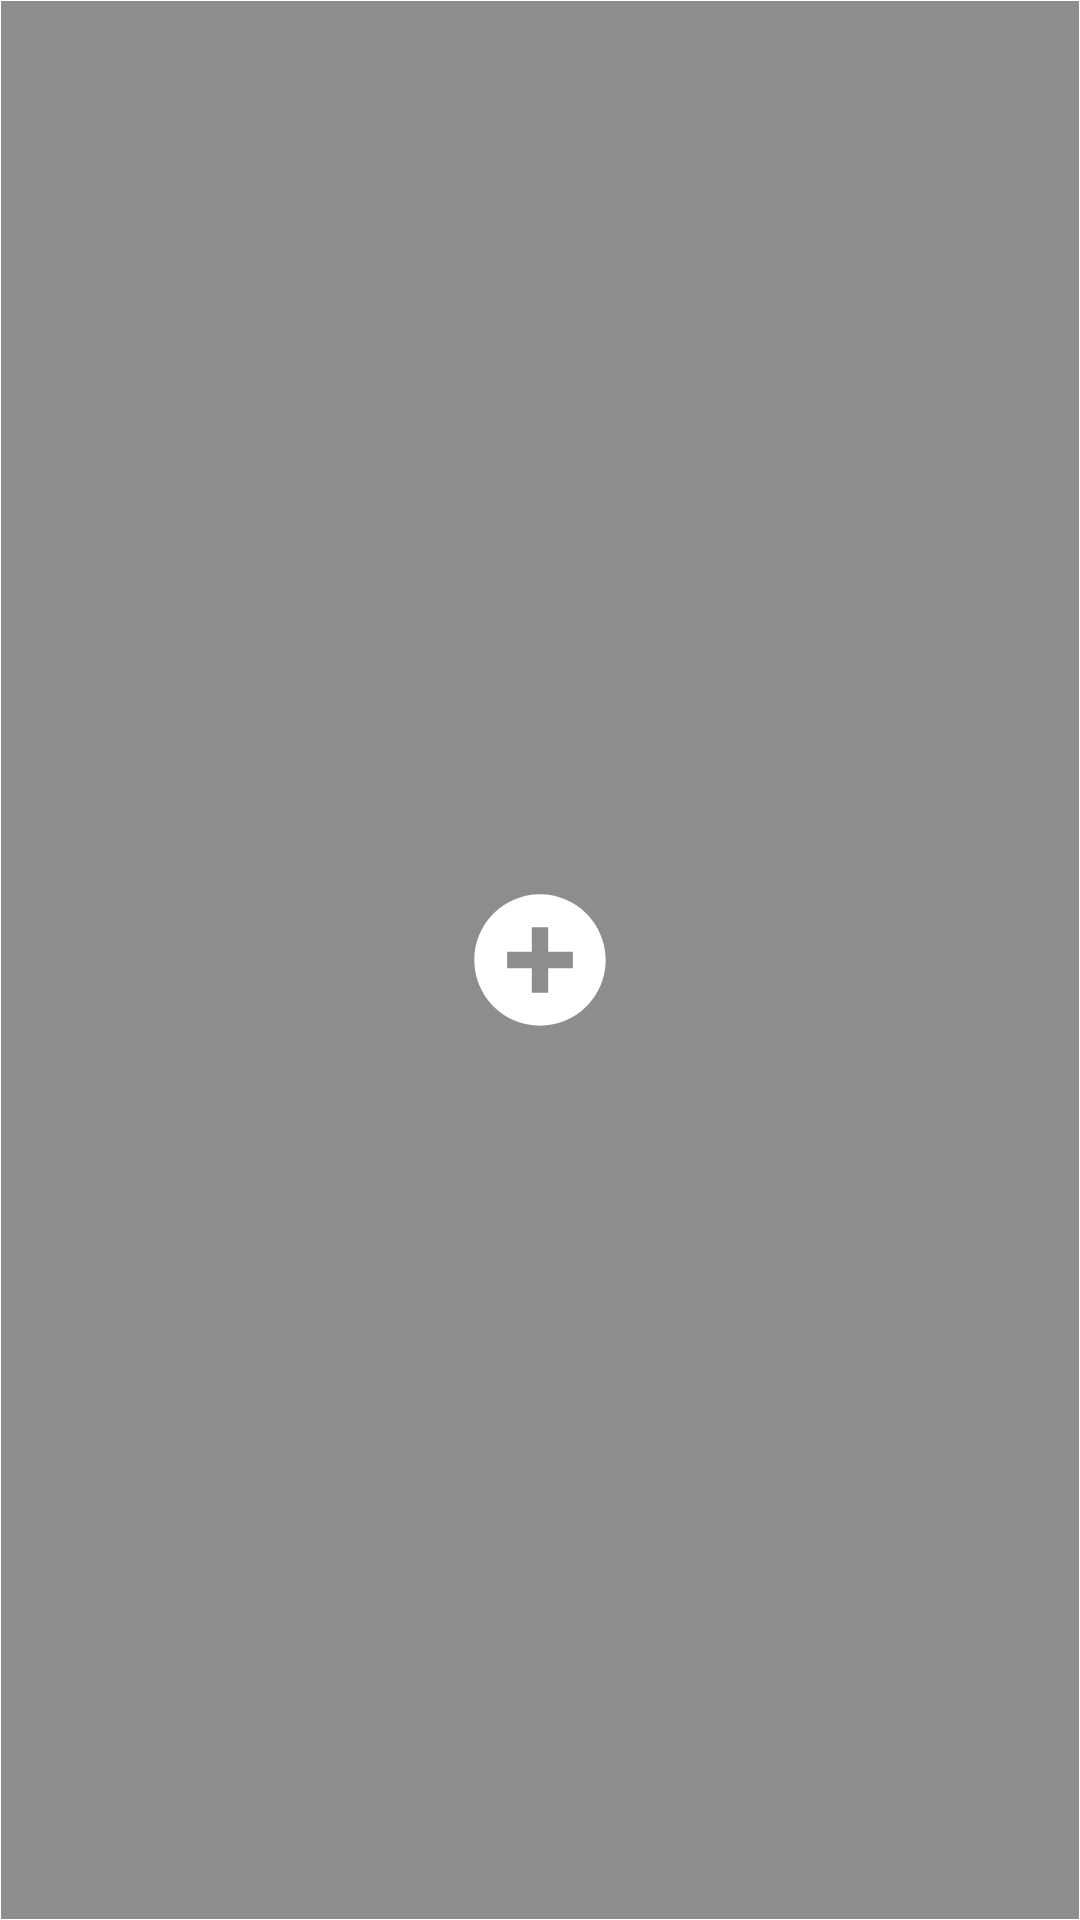

Icons on this 1080×1920 Android screen, each with its box as (x1, y1, x2, y2):
box add: (474, 894, 606, 1026)
